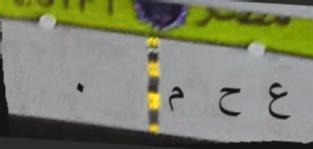0: (72, 76, 89, 101)
7aa: (212, 83, 245, 119)
ain: (262, 80, 293, 123)
meem: (165, 84, 185, 115)
